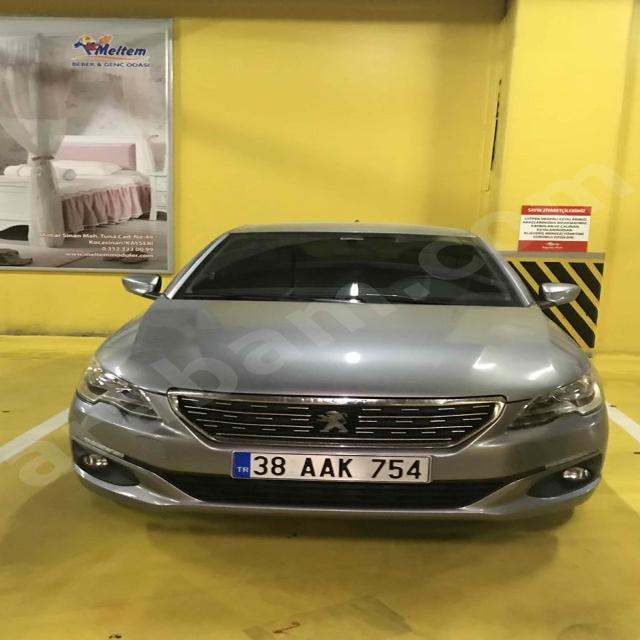license_plate: (231, 451, 431, 483)
